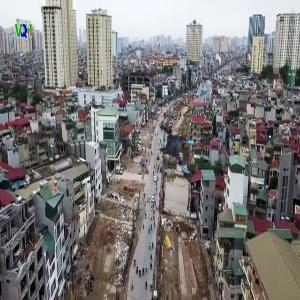drone: (153, 124, 206, 177)
